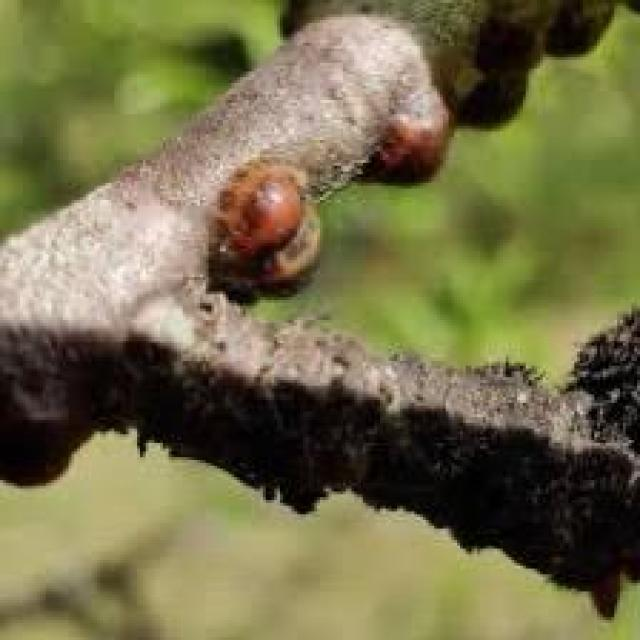Black Scale: (363, 0, 631, 183), (211, 163, 334, 300)
